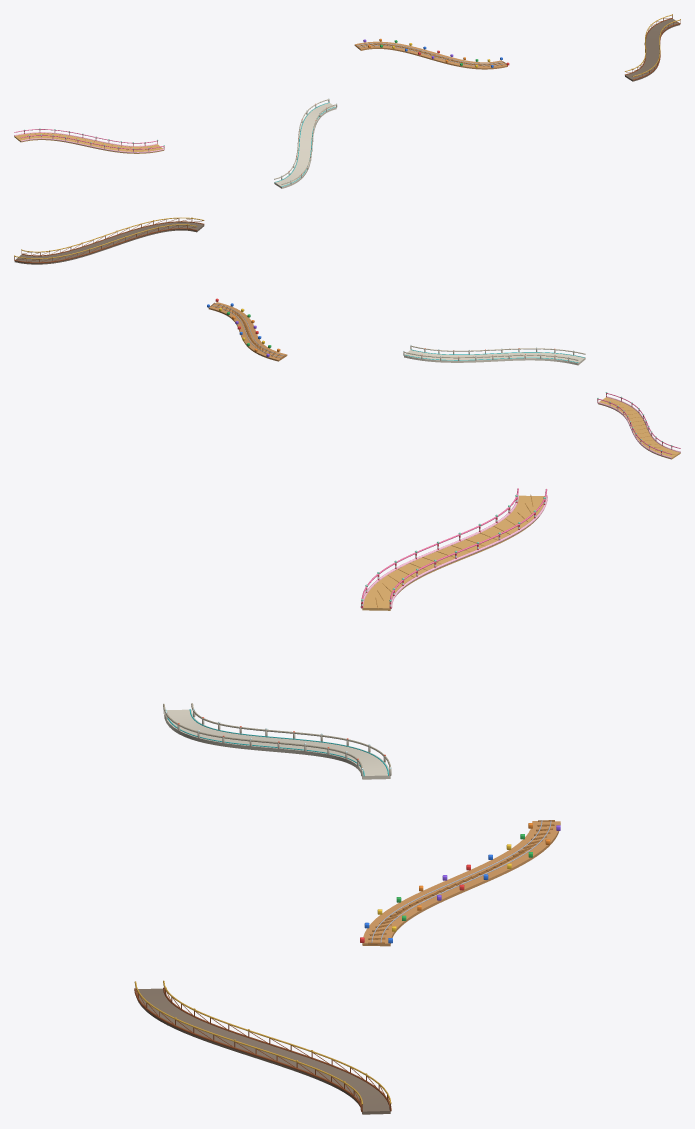
The model's file is Bridges_v2.fbx.
The picture shows the model from 3 angles, top to bottom: view 1: azimuth 30°, elevation 25°; view 2: azimuth 150°, elevation 25°; view 3: azimuth 270°, elevation 25°; orthographic projection. The views are drawn at different scales.
Visible parts, largest first — view 1: BridgeCandyAtlantis2__Deck__E6DFCFSP, BridgeAtlantisToybox2__Deck__D9A066SP, BridgeSakuraCandy2__Deck__E9B872SP, BridgeToyboxClockwork2__Deck__8C7B6BSP, BridgeSakuraCandy2__Frosting__FFC2DASP, BridgeSakuraCandy2__Rails__FF7FB0SP, BridgeCandyAtlantis2__Rails__C9C0ABSP, BridgeAtlantisToybox2__Rails__B8C2D6ME; view 2: BridgeToyboxClockwork2__Deck__8C7B6BSP, BridgeCandyAtlantis2__Deck__E6DFCFSP, BridgeSakuraCandy2__Deck__E9B872SP, BridgeAtlantisToybox2__Deck__D9A066SP, BridgeToyboxClockwork2__Kerb__9A5530SP, BridgeCandyAtlantis2__Rails__C9C0ABSP, BridgeToyboxClockwork2__Rails__E0B04AME, BridgeCandyAtlantis2__Mosaic__3FD0D4SP; view 3: BridgeToyboxClockwork2__Deck__8C7B6BSP, BridgeAtlantisToybox2__Deck__D9A066SP, BridgeCandyAtlantis2__Deck__E6DFCFSP, BridgeSakuraCandy2__Deck__E9B872SP, BridgeToyboxClockwork2__Kerb__9A5530SP, BridgeToyboxClockwork2__Rails__E0B04AME, BridgeSakuraCandy2__Frosting__FFC2DASP, BridgeCandyAtlantis2__Rails__C9C0ABSP.
Boxes of the visible parts, <box> form: BridgeCandyAtlantis2__Deck__E6DFCFSP: <box>274,102,336,188</box>; BridgeAtlantisToybox2__Deck__D9A066SP: <box>354,41,507,69</box>; BridgeSakuraCandy2__Deck__E9B872SP: <box>14,133,164,153</box>; BridgeToyboxClockwork2__Deck__8C7B6BSP: <box>625,18,680,81</box>; BridgeSakuraCandy2__Frosting__FFC2DASP: <box>14,132,164,153</box>; BridgeSakuraCandy2__Rails__FF7FB0SP: <box>14,129,163,149</box>; BridgeCandyAtlantis2__Rails__C9C0ABSP: <box>274,99,336,184</box>; BridgeAtlantisToybox2__Rails__B8C2D6ME: <box>357,43,505,65</box>; BridgeToyboxClockwork2__Deck__8C7B6BSP: <box>14,222,204,264</box>; BridgeCandyAtlantis2__Deck__E6DFCFSP: <box>404,350,585,365</box>; BridgeSakuraCandy2__Deck__E9B872SP: <box>598,397,680,459</box>; BridgeAtlantisToybox2__Deck__D9A066SP: <box>208,302,287,361</box>; BridgeToyboxClockwork2__Kerb__9A5530SP: <box>14,221,204,263</box>; BridgeCandyAtlantis2__Rails__C9C0ABSP: <box>404,345,585,360</box>; BridgeToyboxClockwork2__Rails__E0B04AME: <box>14,217,204,259</box>; BridgeCandyAtlantis2__Mosaic__3FD0D4SP: <box>405,349,584,362</box>; BridgeToyboxClockwork2__Deck__8C7B6BSP: <box>136,988,390,1114</box>; BridgeAtlantisToybox2__Deck__D9A066SP: <box>362,821,560,946</box>; BridgeCandyAtlantis2__Deck__E6DFCFSP: <box>163,709,390,779</box>; BridgeSakuraCandy2__Deck__E9B872SP: <box>362,495,544,610</box>; BridgeToyboxClockwork2__Kerb__9A5530SP: <box>134,987,391,1111</box>; BridgeToyboxClockwork2__Rails__E0B04AME: <box>134,980,390,1102</box>; BridgeSakuraCandy2__Frosting__FFC2DASP: <box>360,494,547,608</box>; BridgeCandyAtlantis2__Rails__C9C0ABSP: <box>163,703,390,768</box>.
Bounding box in the file's own units: 507 × 26.79 × 150.
